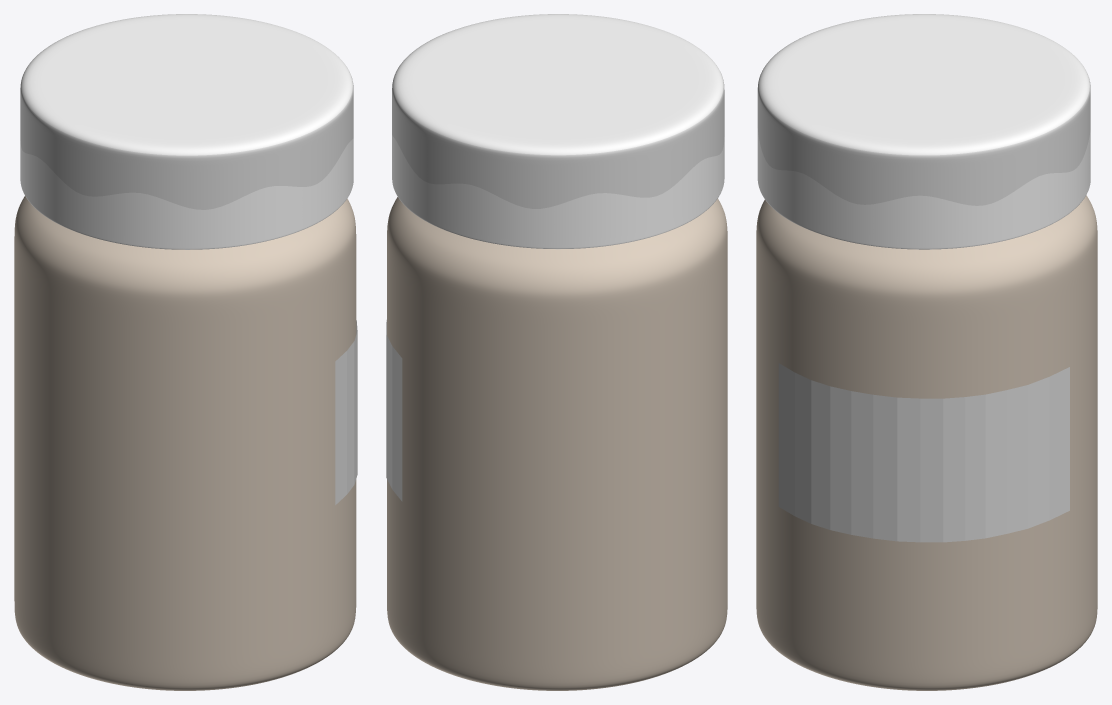
Rendered from container_with_animation_final_final.fbx.
3 renders of one model, left to right at view 1: azimuth 30°, elevation 25°; view 2: azimuth 150°, elevation 25°; view 3: azimuth 270°, elevation 25°, orthographic.
Parts seen in each view (by area): view 1: Vial - Scintillation - 20 mL, Vial - Scintillation - 20 mL.001, Plane; view 2: Vial - Scintillation - 20 mL, Vial - Scintillation - 20 mL.001, Plane; view 3: Vial - Scintillation - 20 mL, Vial - Scintillation - 20 mL.001, Plane.
Boxes of the visible parts, <box> form: Vial - Scintillation - 20 mL: <box>14,196,356,690</box>; Vial - Scintillation - 20 mL.001: <box>20,14,353,249</box>; Plane: <box>335,320,357,504</box>; Vial - Scintillation - 20 mL: <box>387,197,727,690</box>; Vial - Scintillation - 20 mL.001: <box>392,14,724,249</box>; Plane: <box>386,320,402,501</box>; Vial - Scintillation - 20 mL: <box>756,195,1097,690</box>; Vial - Scintillation - 20 mL.001: <box>757,14,1090,249</box>; Plane: <box>778,363,1069,542</box>.
Size of the model in its own units: 155 by 271 by 154.
